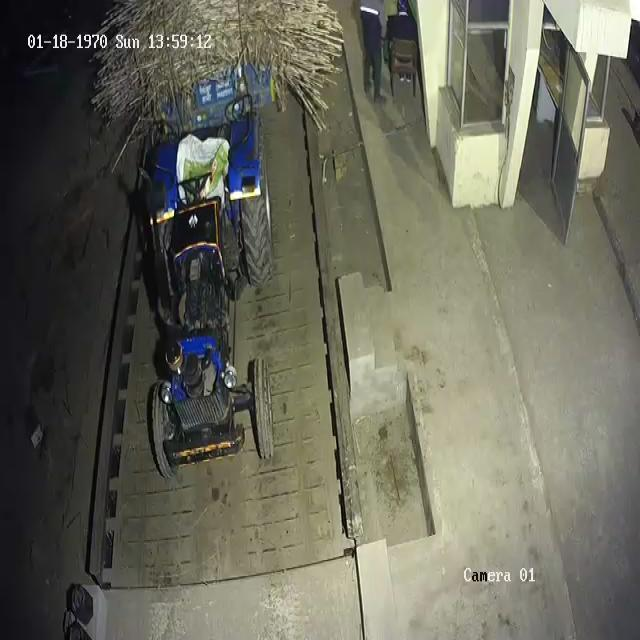Tratores - v5 YOLO V8L 2024-11-13: (128, 111, 286, 479)
